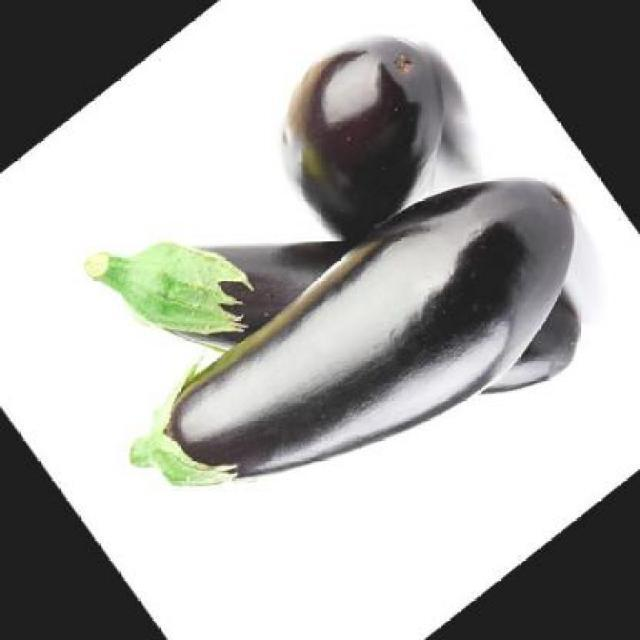eggplant: (76, 28, 598, 576), (103, 111, 620, 592), (238, 0, 494, 266)
